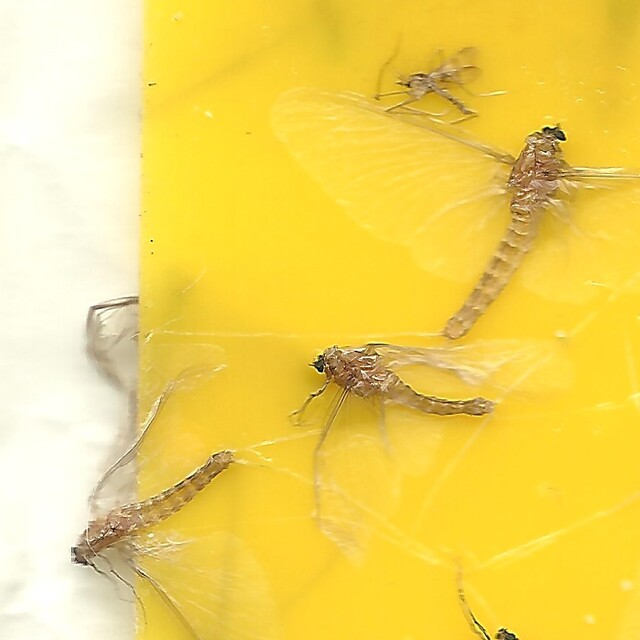Ephemeroptera: (444, 120, 568, 341), (72, 445, 235, 568), (307, 346, 496, 420)
Nematocera: (396, 72, 476, 116)
